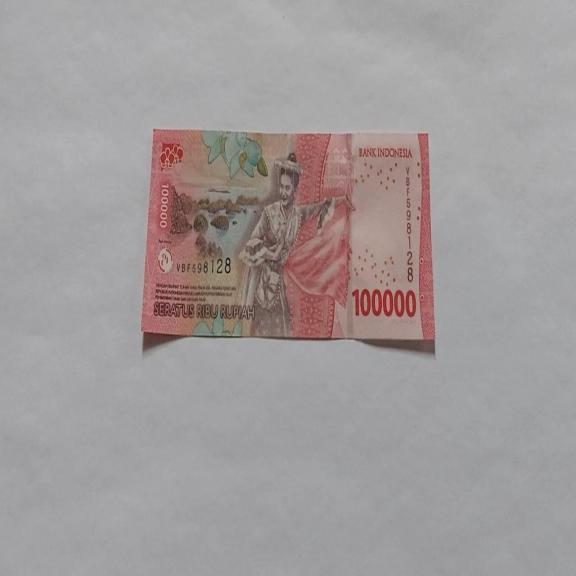Kertas: (140, 127, 435, 347), (351, 286, 417, 319)
